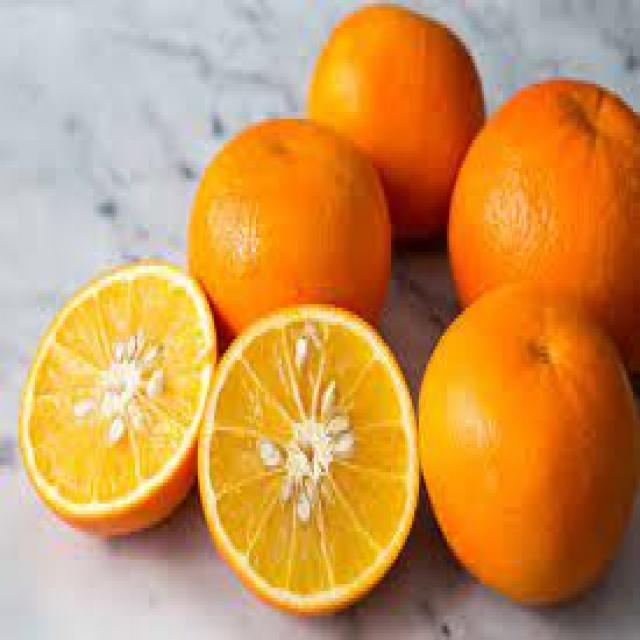orange: (419, 287, 640, 612), (202, 308, 422, 616), (18, 258, 216, 546), (444, 73, 640, 360), (182, 108, 396, 322), (307, 3, 491, 242)
